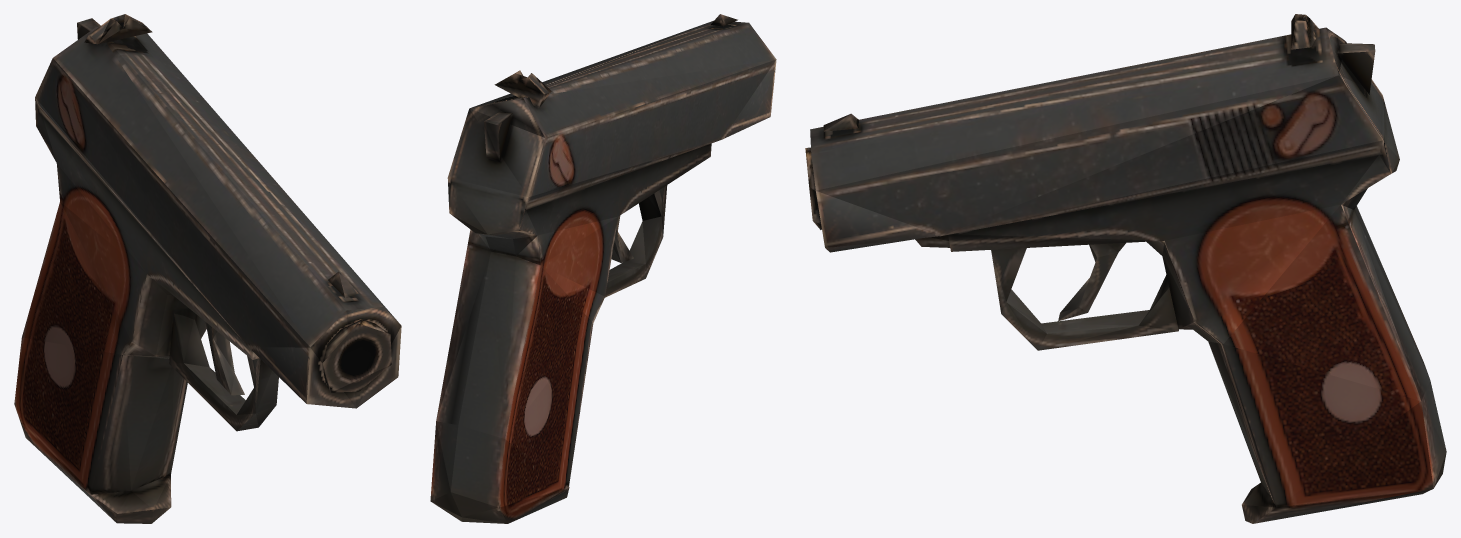
File: SM_Pistol.fbx
3 renders of one model, left to right at view 1: azimuth 30°, elevation 25°; view 2: azimuth 150°, elevation 25°; view 3: azimuth 270°, elevation 25°, orthographic. The views are drawn at different scales.
Visible parts, largest first — view 1: SM_Pistol; view 2: SM_Pistol; view 3: SM_Pistol.
Boxes of the visible parts, bbox=[...] form: SM_Pistol: bbox=[14, 14, 401, 523]; SM_Pistol: bbox=[430, 14, 776, 523]; SM_Pistol: bbox=[805, 14, 1446, 523].
Bounding box in the file's own units: 3.4 × 17 × 19.7.
Materials: 1 (1 with a texture image).
